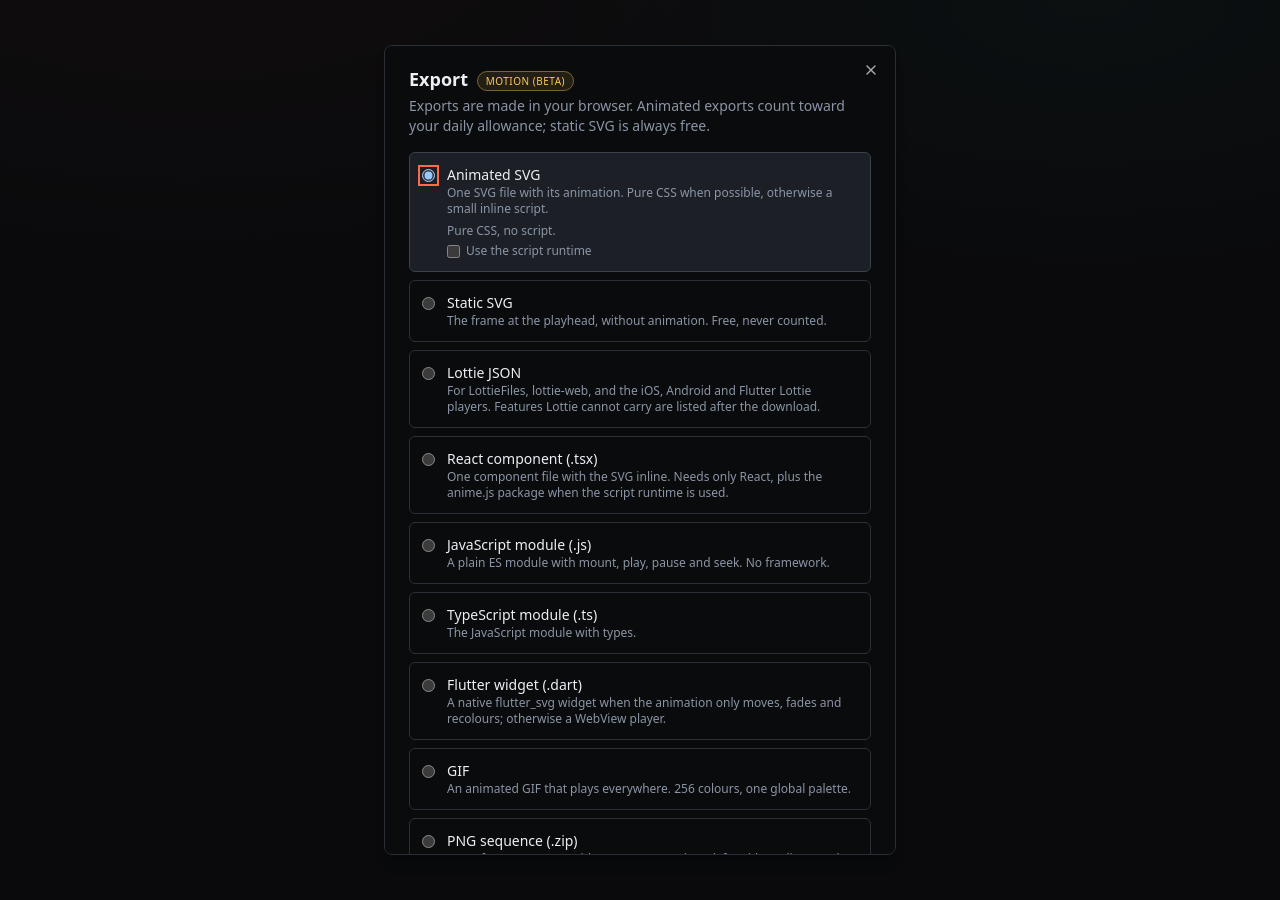
Test: MM47 raster formats in the export dialog › premium GIF: pre-clamped to 720p and 15 s, counted with those values, then encoded and downloaded
This screenshot has width=1280, height=900.
What coordinates should you click on to do the following:
click the radio button labelled "GIF"
I would click on:
 (428, 772)
Its box is [422,765,435,778].
(page scrolled)
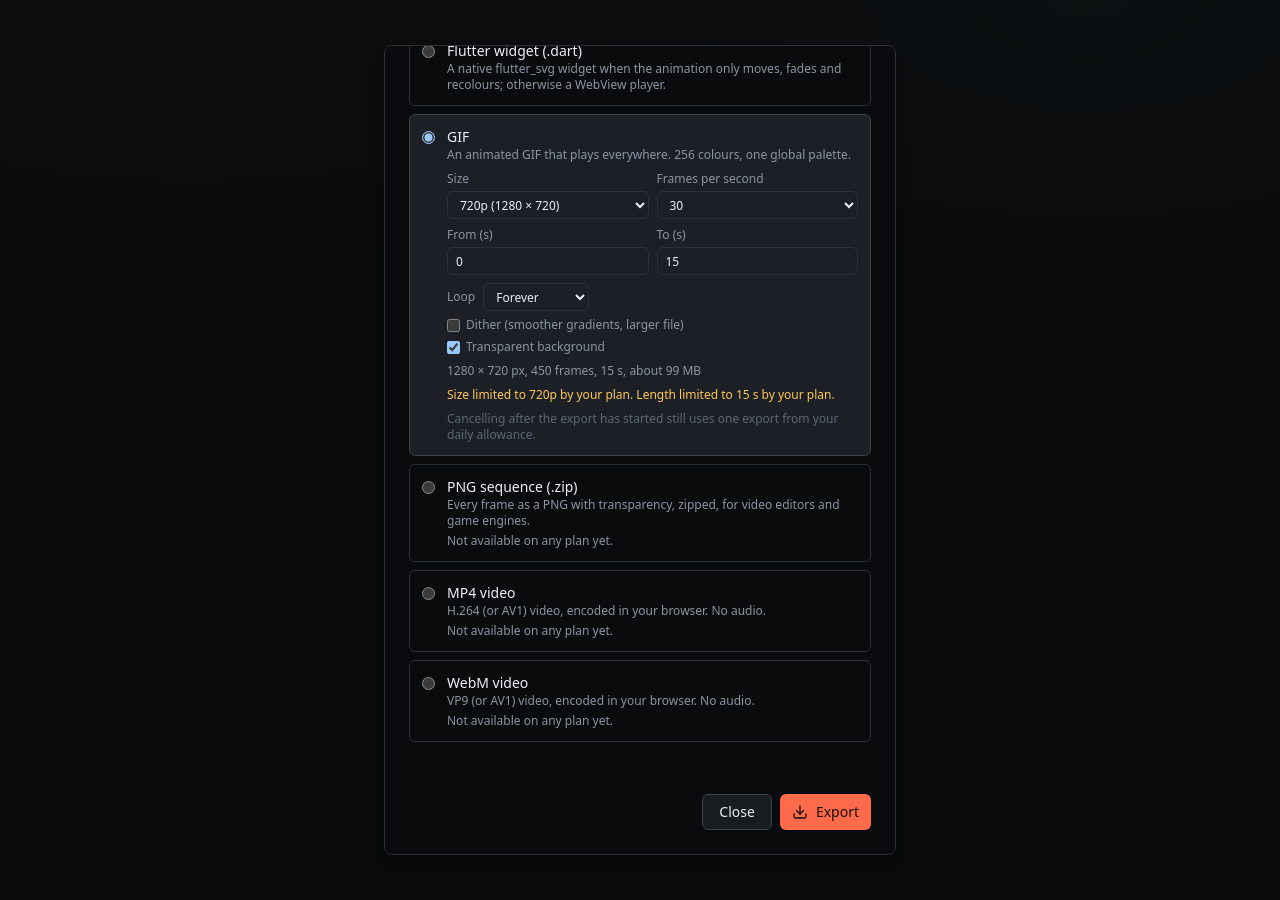
Now the text with test id "vector-raster-clamped" shows "720p", box [447,386,835,403]
Now the text with test id "vector-raster-clamped" shows "15 s", box [447,386,835,403]
Now the text with test id "vector-raster-summary" shows "1280 × 720 px", box [447,362,701,379]
What coordinates should you click on to do the following:
click the button "Export"
I would click on:
 (825, 812)
Its box is [780,794,871,830].
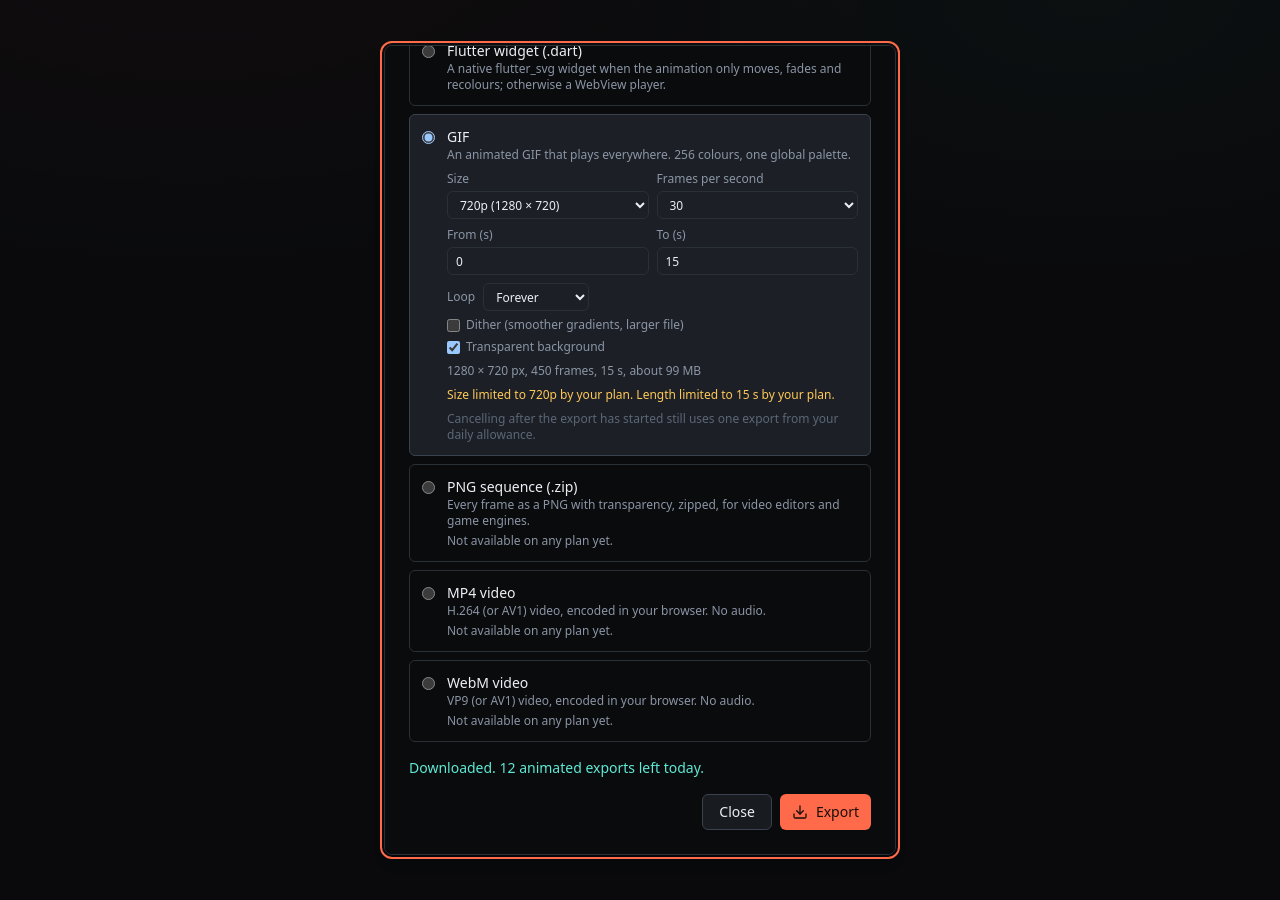
Now the message with test id "vector-export-status" shows "12 animated exports left today.", box [409,758,704,777]
